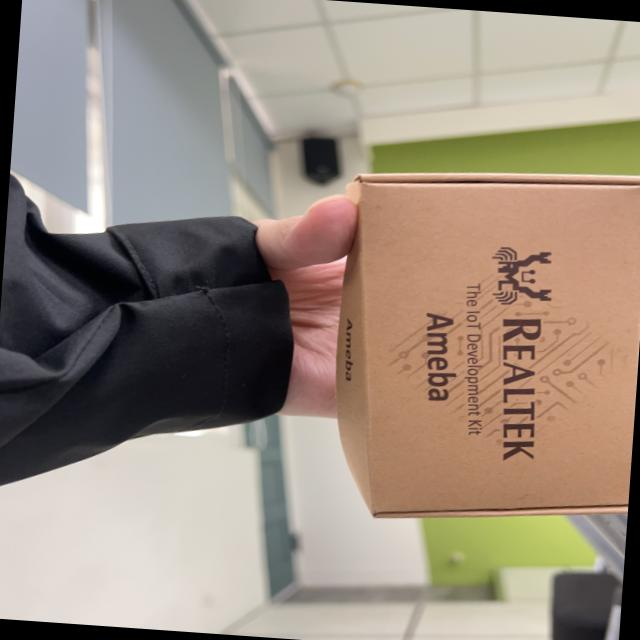box: (306, 145, 640, 555)
